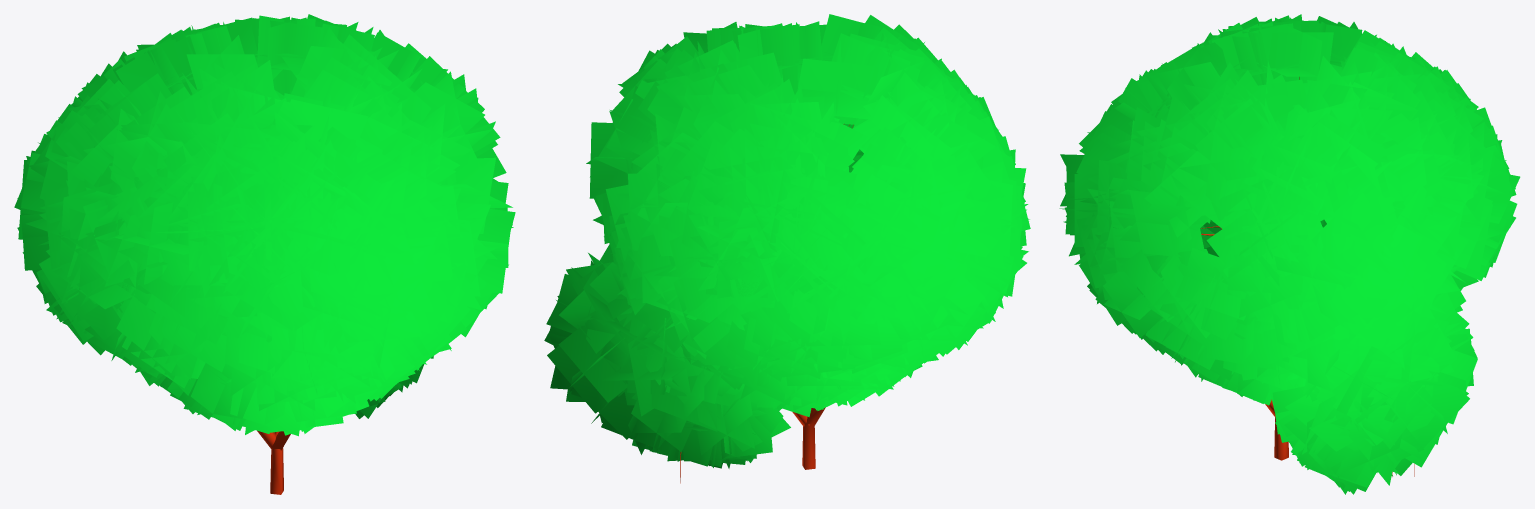
3 views of the same model, side by side, from view 1: azimuth 30°, elevation 25°; view 2: azimuth 150°, elevation 25°; view 3: azimuth 270°, elevation 25° (orthographic). The views are drawn at different scales.
Parts seen in each view (by area): view 1: Plane.001, Trunk; view 2: Plane.001, Trunk; view 3: Plane.001, Trunk.
Boxes of the visible parts, <box> form: Plane.001: <box>14,14,515,436</box>; Trunk: <box>257,430,290,494</box>; Plane.001: <box>544,14,1030,468</box>; Trunk: <box>680,124,853,483</box>; Plane.001: <box>1059,14,1520,494</box>; Trunk: <box>1201,77,1414,476</box>.
Size of the model in its own units: 6.17 by 6.2 by 6.29.
